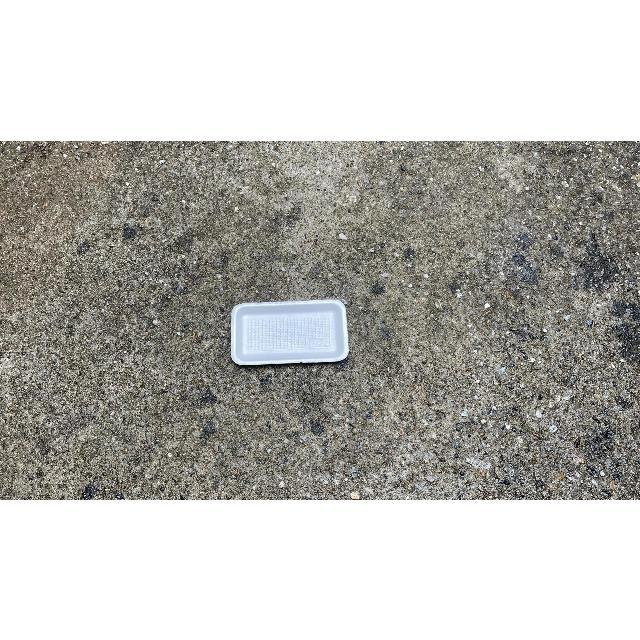Recipiente plastico: (231, 300, 349, 365)
